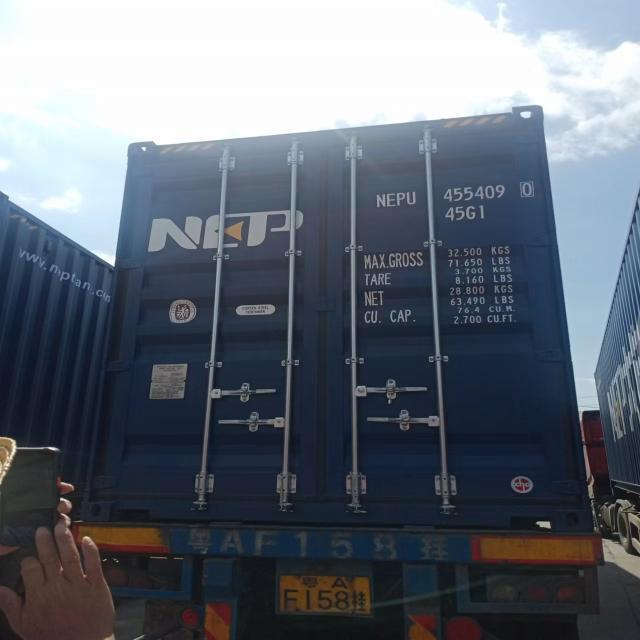ISO: (448, 204, 486, 222)
container_number: (377, 184, 537, 203)
